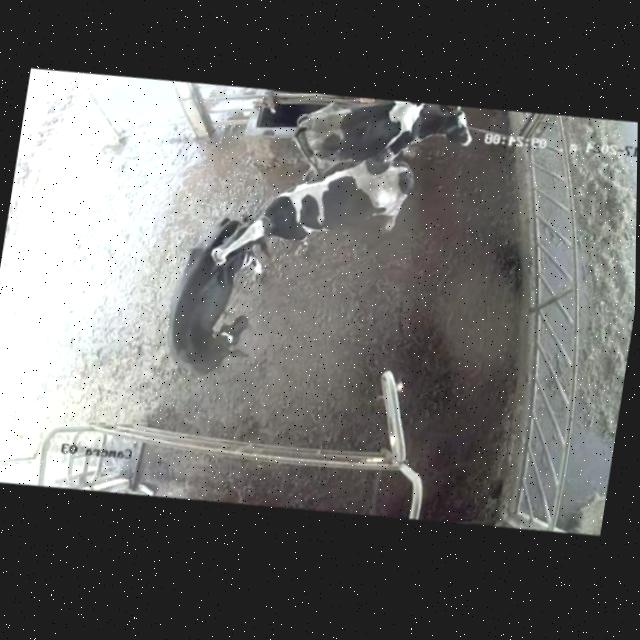propping: (185, 177, 300, 299)
stand: (140, 204, 276, 406), (280, 79, 480, 189)
